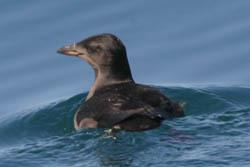008.Rhinoceros_Auklet: (56, 34, 185, 135)
